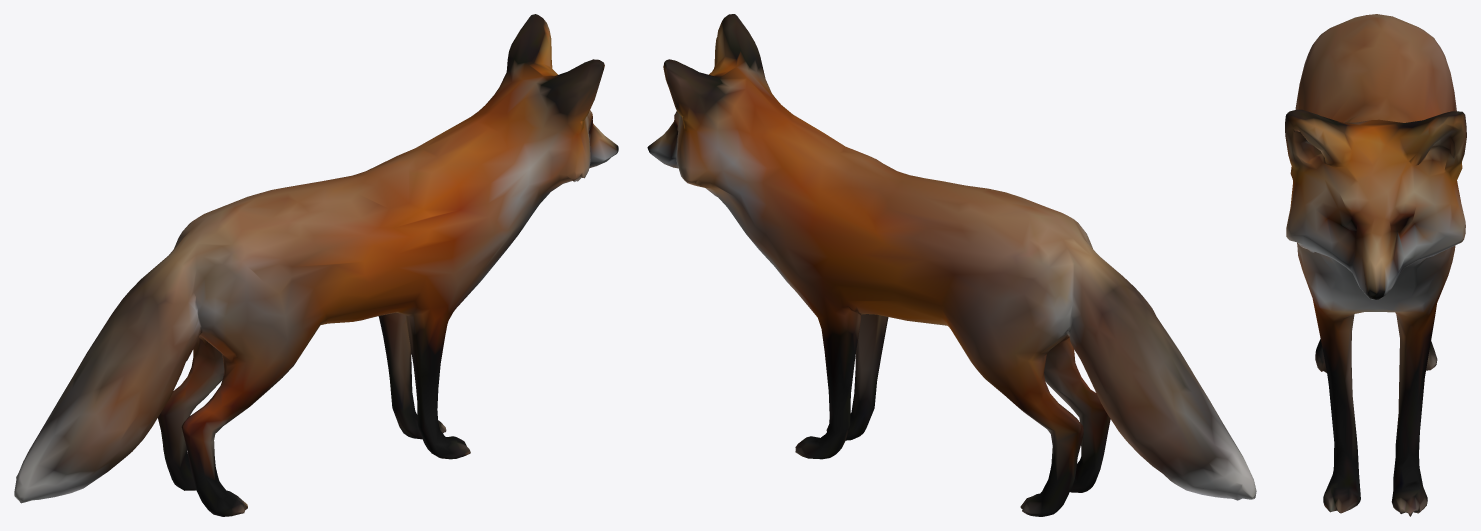
File: kitsune.glb
3 views of the same model, side by side, from view 1: azimuth 30°, elevation 25°; view 2: azimuth 150°, elevation 25°; view 3: azimuth 270°, elevation 25° (orthographic). The views are drawn at different scales.
Visible parts, largest first — view 1: fauna/kitsune.glb; view 2: fauna/kitsune.glb; view 3: fauna/kitsune.glb.
Boxes of the visible parts, box(x1,y1,x2,y2) form: fauna/kitsune.glb: box(14, 14, 618, 516); fauna/kitsune.glb: box(647, 14, 1256, 516); fauna/kitsune.glb: box(1285, 14, 1466, 516).
Bounding box in the file's own units: 0.9997 × 0.5935 × 0.2064.
